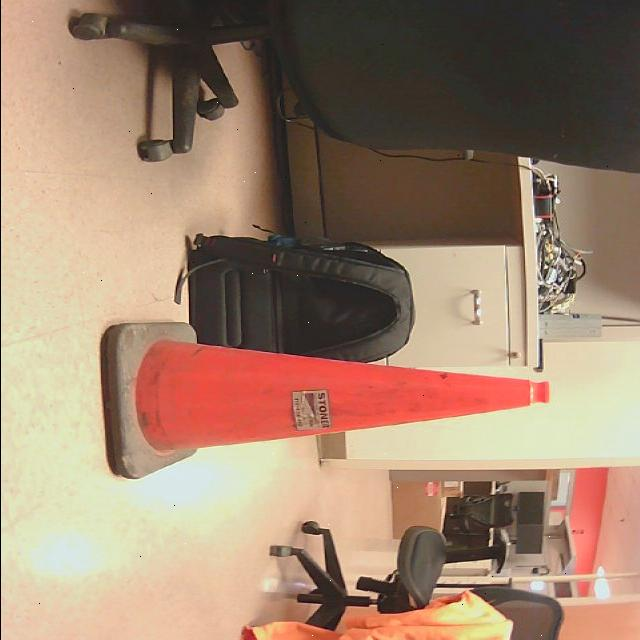traffic cone: (97, 322, 550, 481)
